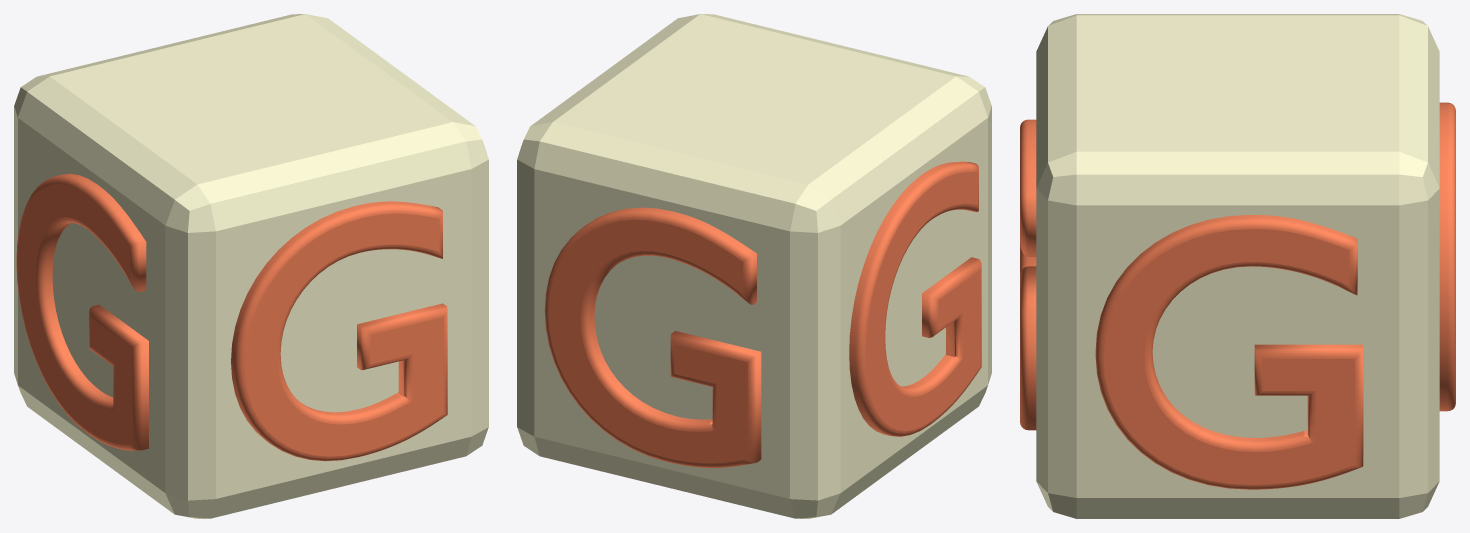
3 renders of one model, left to right at view 1: azimuth 30°, elevation 25°; view 2: azimuth 150°, elevation 25°; view 3: azimuth 270°, elevation 25°, orthographic. The views are drawn at different scales.
Visible parts, largest first — view 1: G; view 2: G; view 3: G.
Part boxes in pixels (box(x1,y1,x2,y2)): G: box(14, 14, 488, 518); G: box(517, 14, 991, 518); G: box(1020, 14, 1455, 518).
Size of the model in its own units: 216 by 200 by 216.
